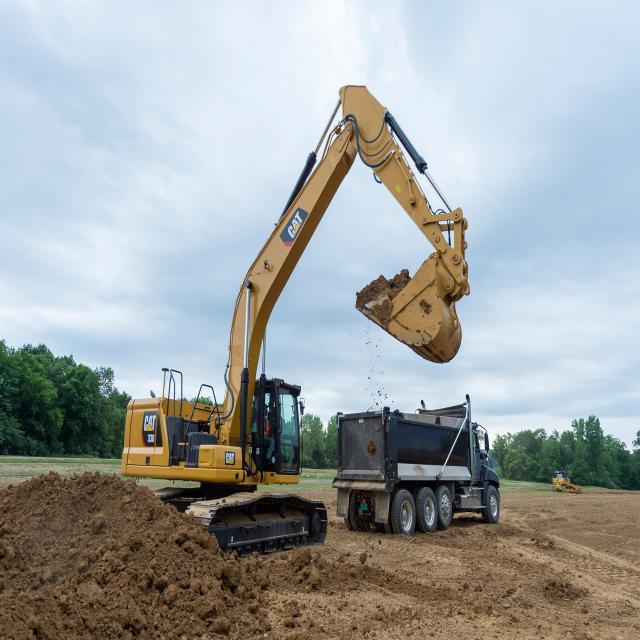excavator: (123, 84, 470, 506)
